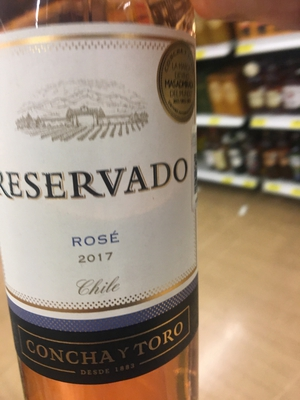reservado rose: (1, 1, 207, 397)
